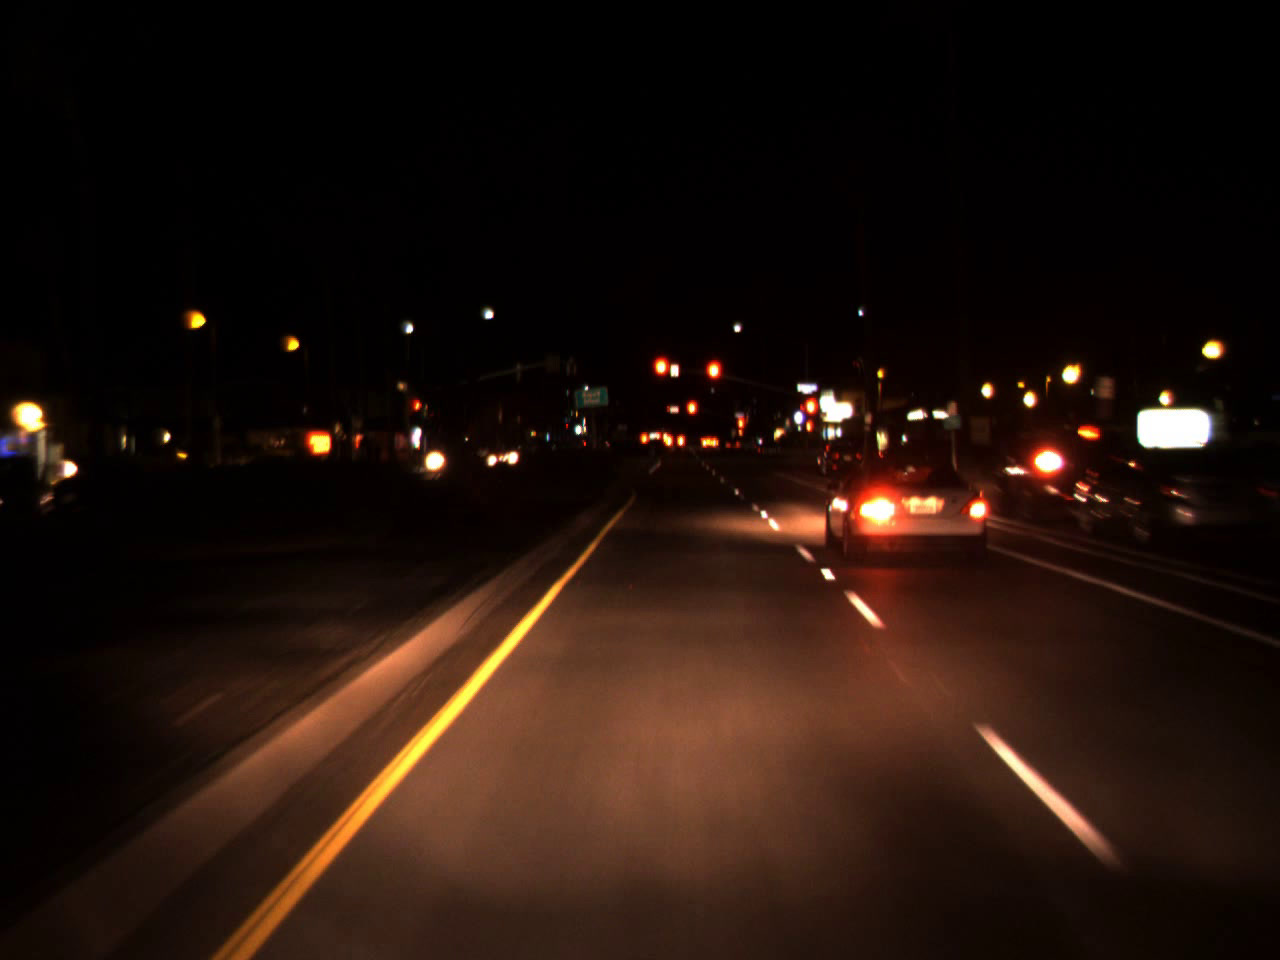stop: (651, 354, 673, 397), (703, 358, 724, 401), (803, 394, 821, 437), (684, 399, 699, 431), (412, 398, 422, 422), (737, 415, 744, 442)
